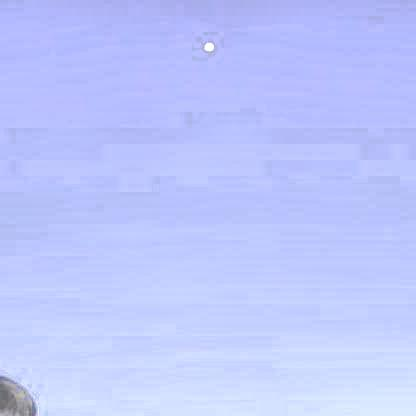golfball: (200, 36, 214, 50)
